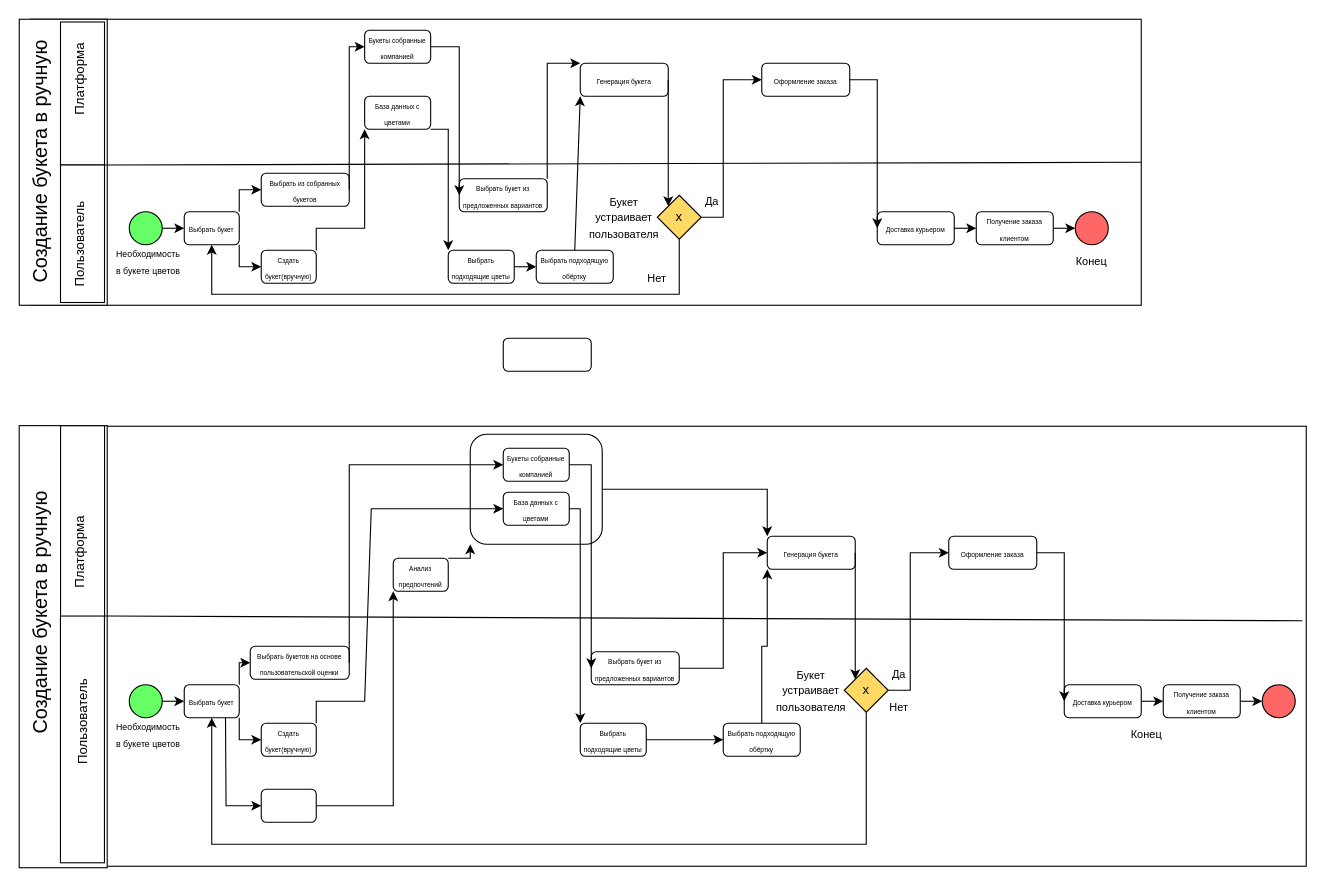
This 1327x888 diagram has some shape labels left out. The shapes that lost their labels are listed below. From the top down, each one's box as (x1, y1, x2, y2) in pixels, then its label:
(502, 337, 591, 371): Букеты подобранные на основе предпочтений
(260, 788, 316, 822): Пройти квиз
